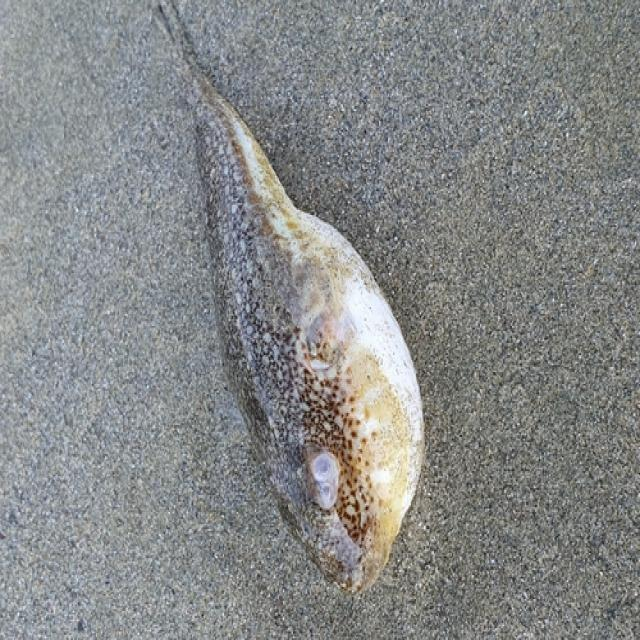Balik: (159, 4, 423, 592)
